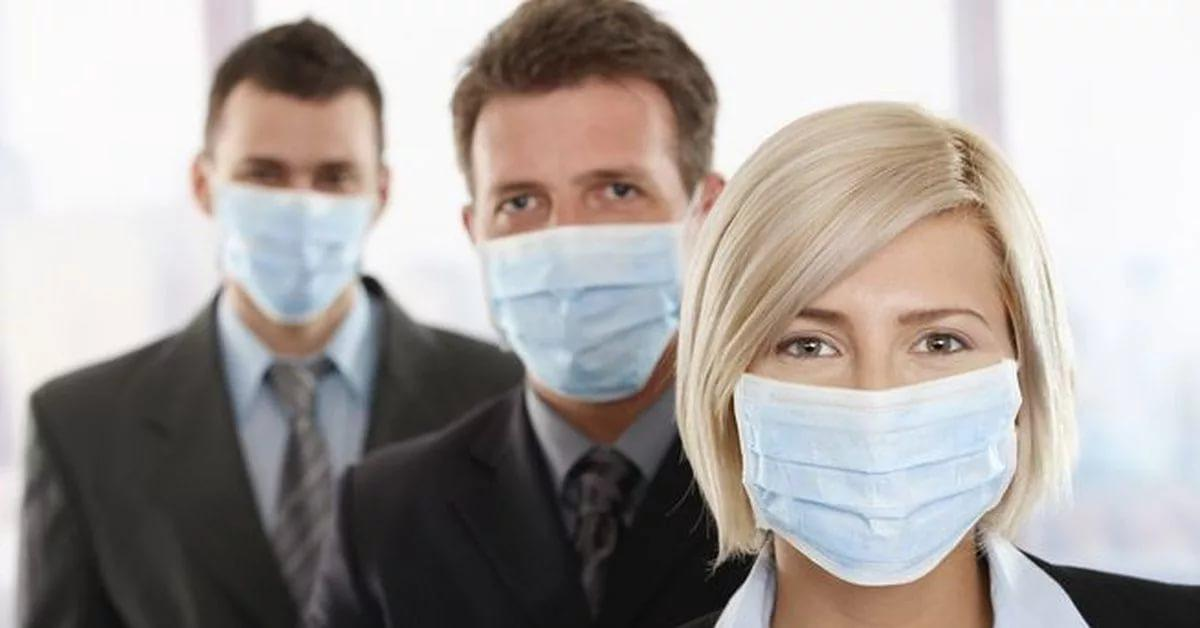mask: (729, 213, 1038, 593), (468, 59, 700, 401), (213, 101, 383, 321)
